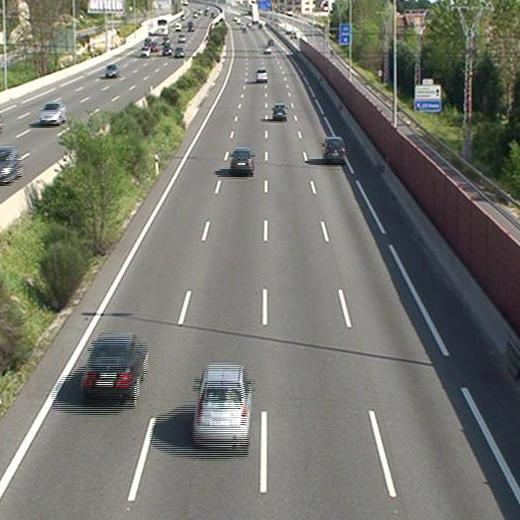car: (193, 366, 250, 445), (81, 334, 147, 400), (230, 149, 254, 174), (324, 139, 344, 163), (273, 104, 287, 120), (255, 69, 267, 82)
